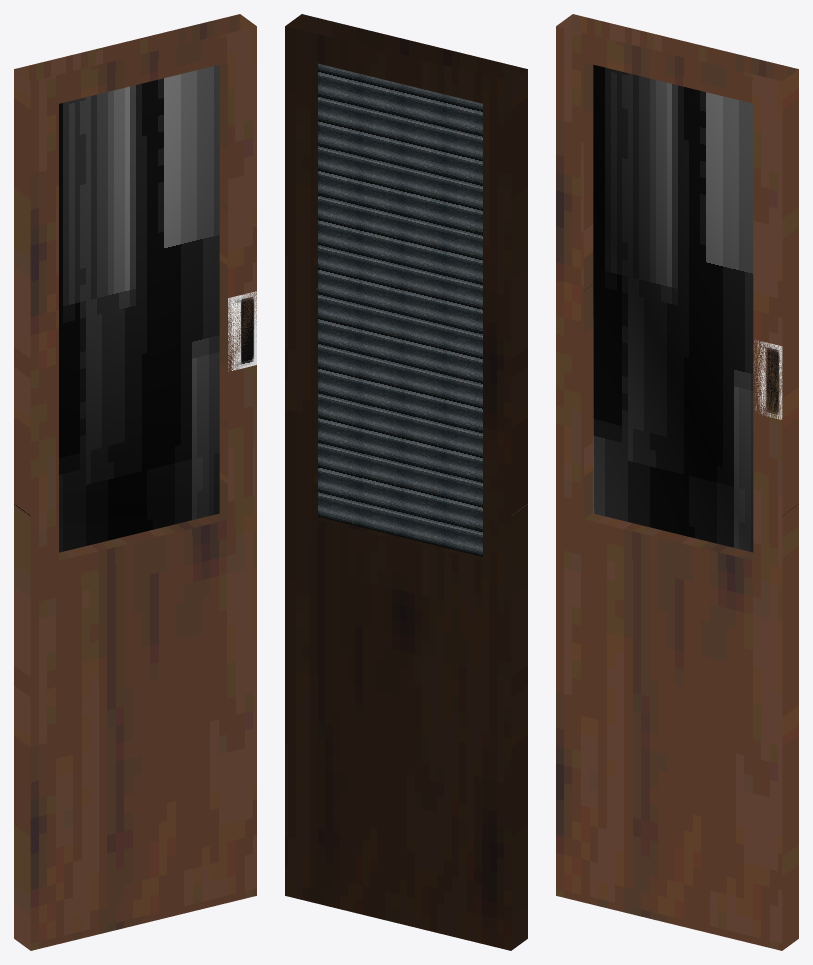
File: Ptrain_door3Z.obj
3 renders of one model, left to right at view 1: azimuth 30°, elevation 25°; view 2: azimuth 150°, elevation 25°; view 3: azimuth 330°, elevation 25°, orthographic.
Size of the model in its own units: 234 by 860 by 30.
4 materials, 4 textured.
